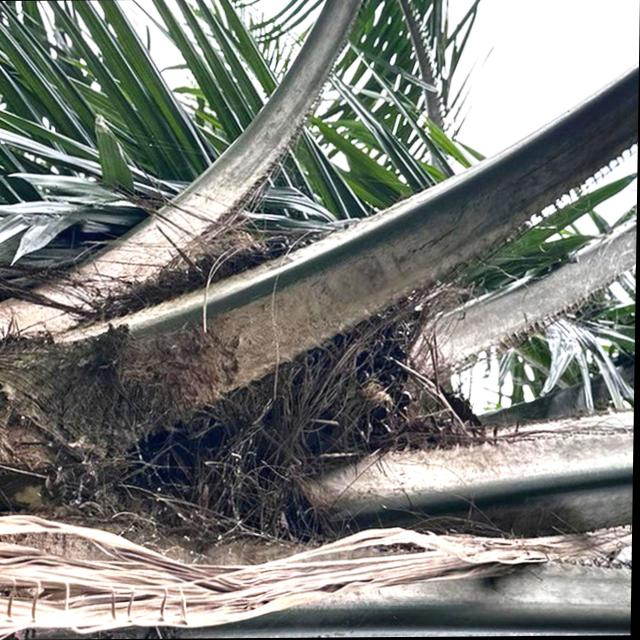unripe: (152, 242, 421, 442)
